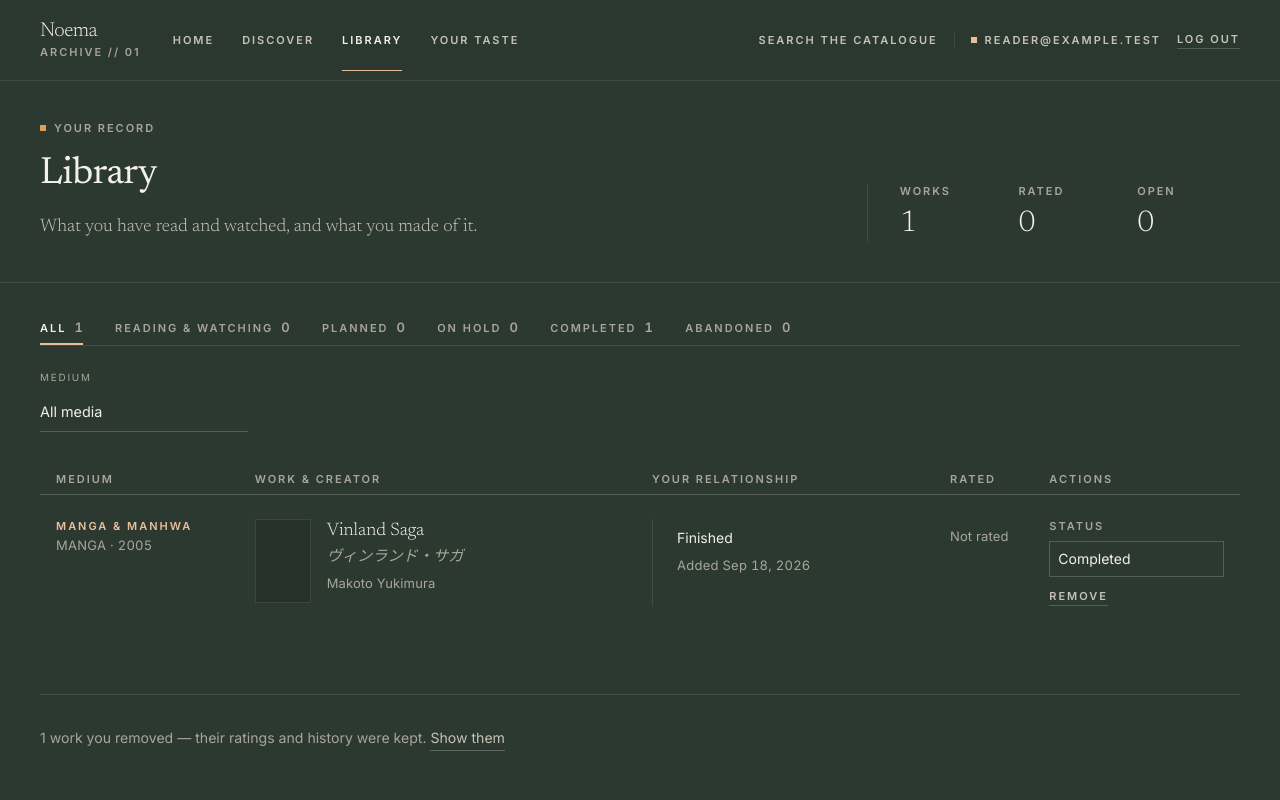
Test case: Library status organisation › says a removed entry is removed rather than showing it as held
Click the button "Show them" at {"x": 468, "y": 739}, box 430,727 -> 505,751
(page scrolled)
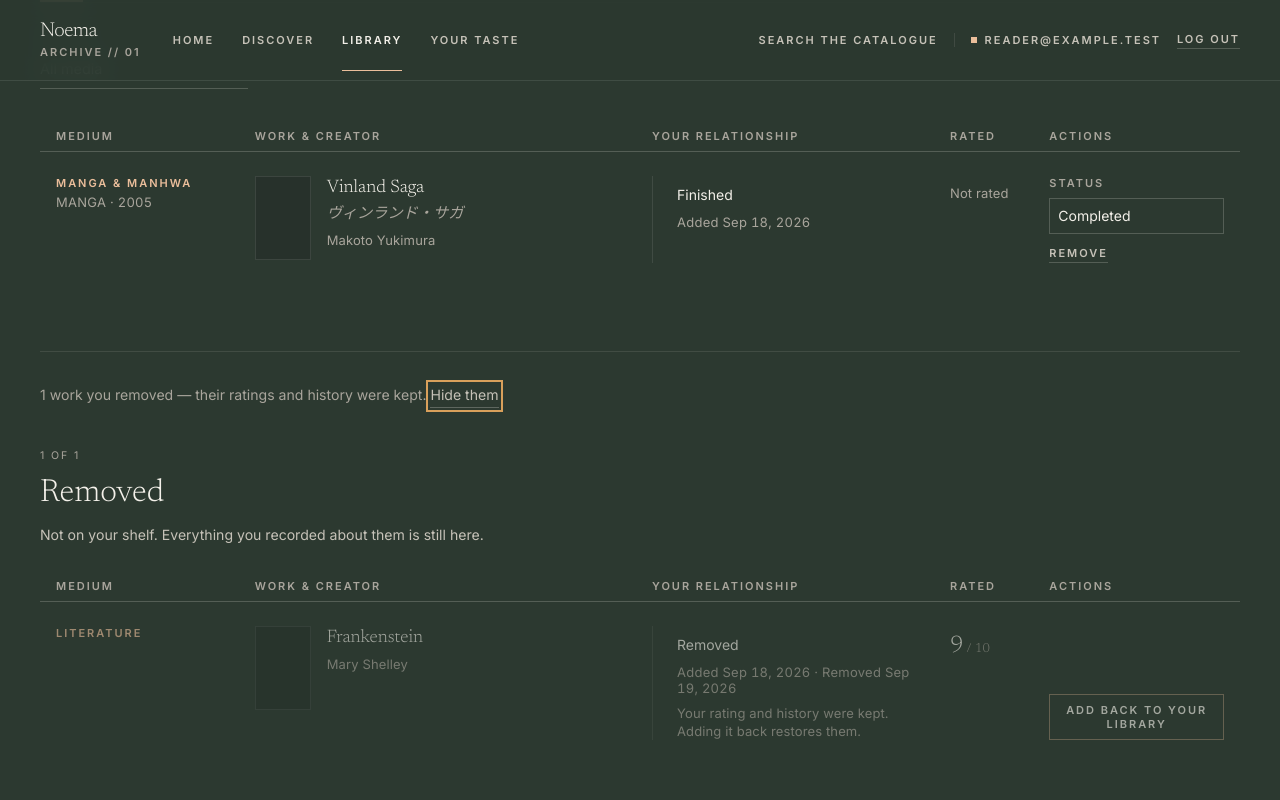
Result: the heading "Frankenstein" is shown at 327,626 -> 423,651
